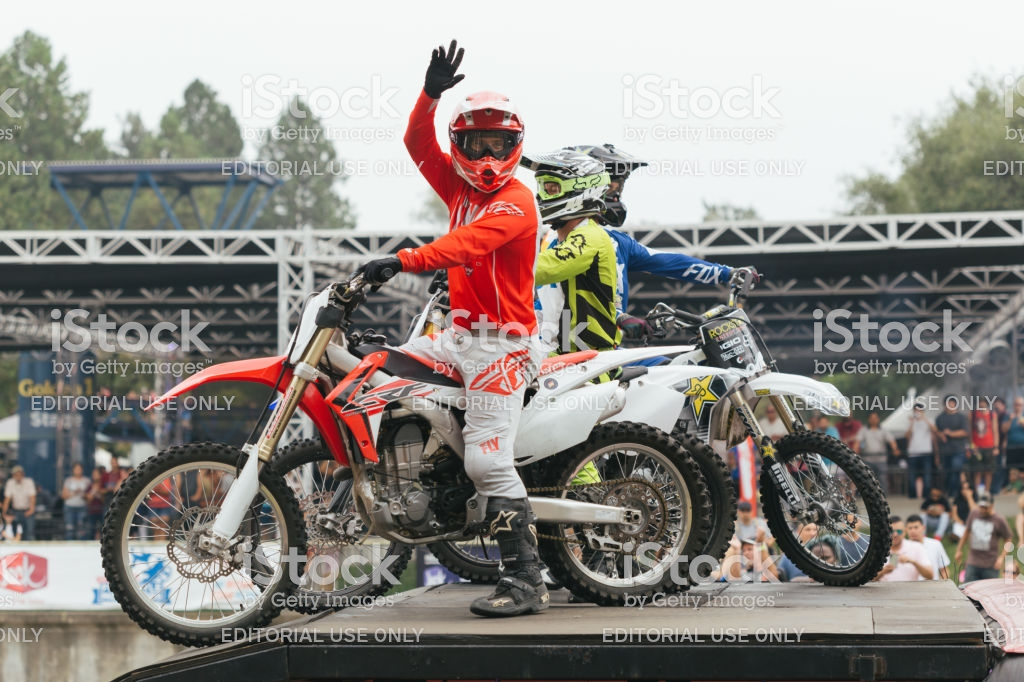helmet: (442, 88, 528, 203), (540, 140, 630, 236)
